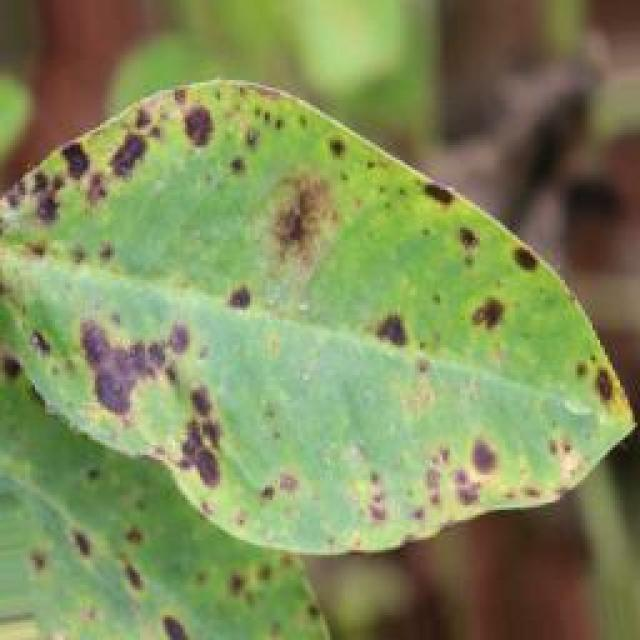Yellowish: (0, 72, 612, 639)
